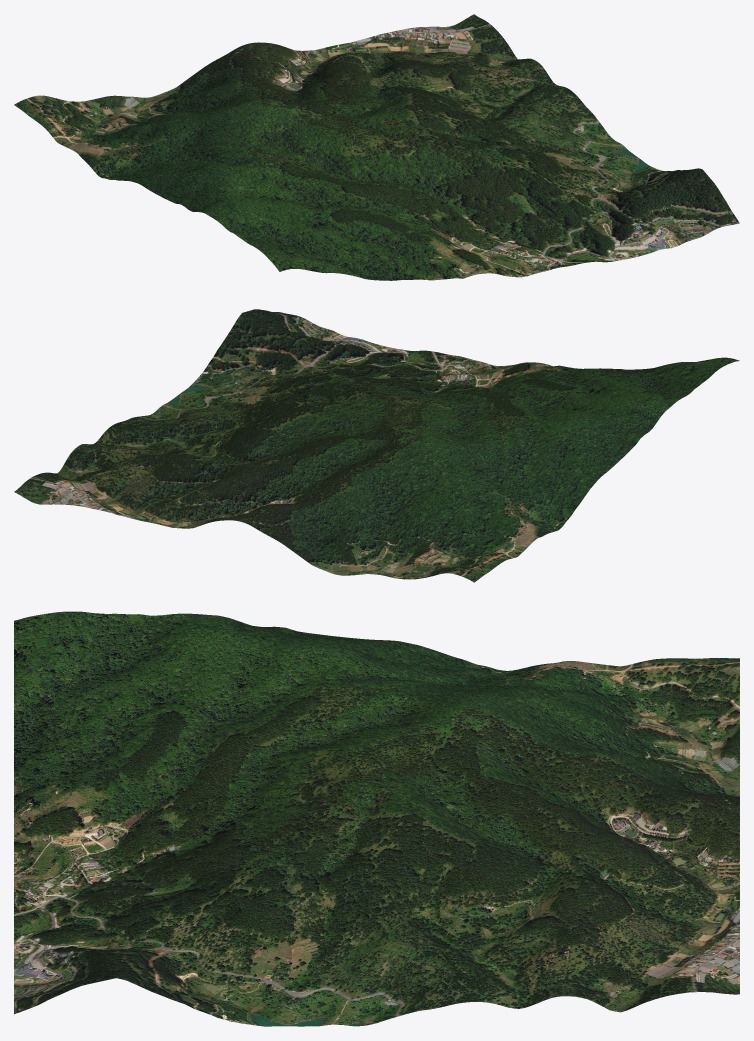
Rendered from terrain_real_T_W02_S02.glb.
3 renders of one model, top to bottom at view 1: azimuth 30°, elevation 25°; view 2: azimuth 150°, elevation 25°; view 3: azimuth 270°, elevation 25°, orthographic. The views are drawn at different scales.
Visible parts, largest first — view 1: TerrainReal_T_W02_S02; view 2: TerrainReal_T_W02_S02; view 3: TerrainReal_T_W02_S02.
Part boxes in pixels (<box>): TerrainReal_T_W02_S02: <box>14,14,739,280</box>; TerrainReal_T_W02_S02: <box>14,309,739,582</box>; TerrainReal_T_W02_S02: <box>14,611,739,1026</box>.
Bounding box in the file's own units: 2000 × 337 × 2000.
1 material, 1 textured.
